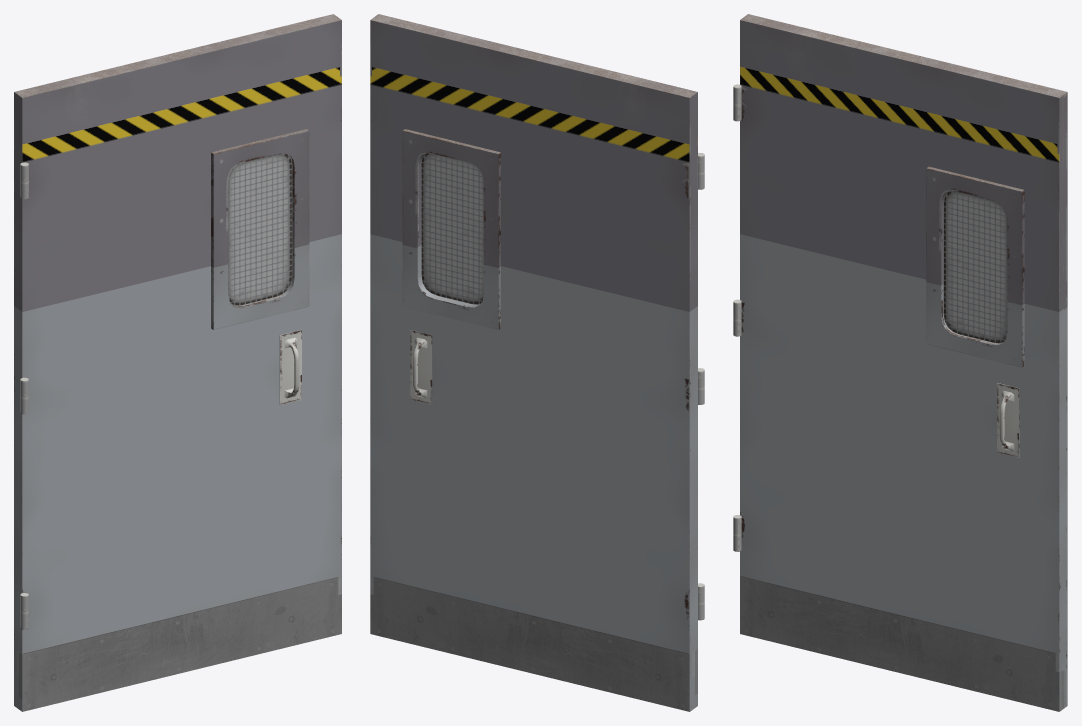
Rendered from SM_Gate_Gate_A.fbx.
3 renders of one model, left to right at view 1: azimuth 30°, elevation 25°; view 2: azimuth 150°, elevation 25°; view 3: azimuth 330°, elevation 25°, orthographic.
Visible parts, largest first — view 1: SM_Gate_Gate_A; view 2: SM_Gate_Gate_A; view 3: SM_Gate_Gate_A.
Boxes of the visible parts, x1,y1,x2,y2 form: SM_Gate_Gate_A: (14,14,341,711); SM_Gate_Gate_A: (370,14,704,711); SM_Gate_Gate_A: (733,14,1067,711).
Bounding box in the file's own units: 137 × 16.28 × 248.
Materials: 2 (2 with a texture image).
